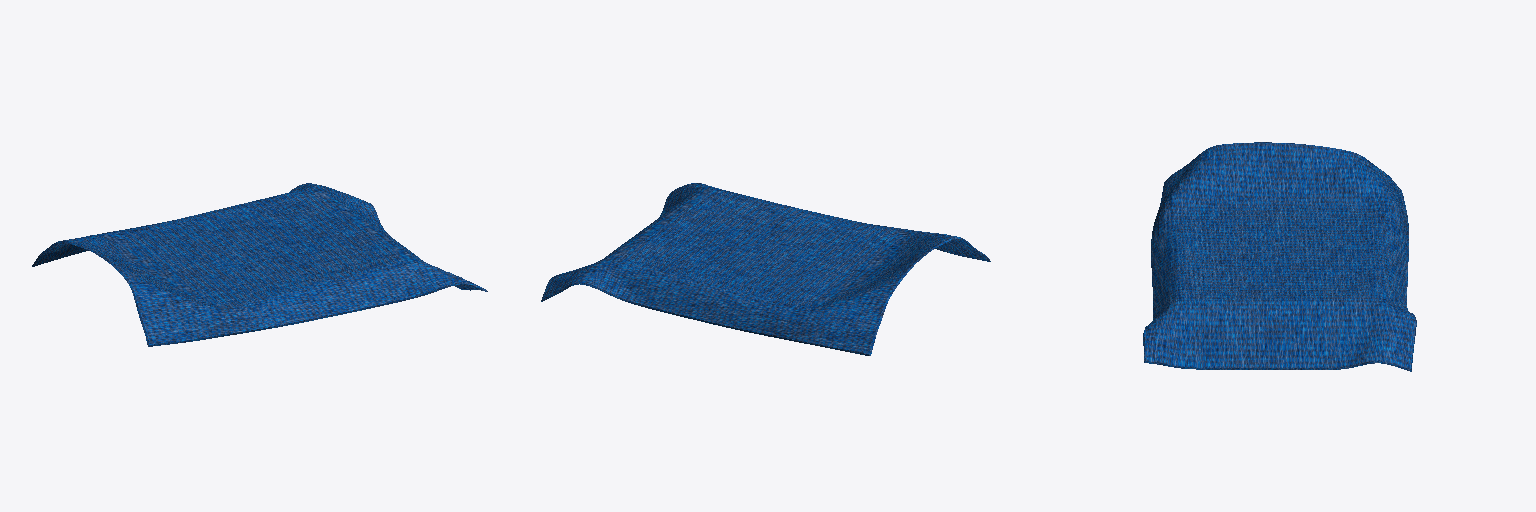
The picture shows the model from 3 angles: view 1: azimuth 30°, elevation 25°; view 2: azimuth 150°, elevation 25°; view 3: azimuth 270°, elevation 25°; orthographic projection.
Parts seen in each view (by area): view 1: blanket bed; view 2: blanket bed; view 3: blanket bed.
Part boxes in pixels (x1,y1,x2,y2): blanket bed: (32,183,487,346); blanket bed: (541,183,990,355); blanket bed: (1143,142,1416,371).
Size of the model in its own units: 251 by 55.27 by 179.
1 materials, 1 textured.